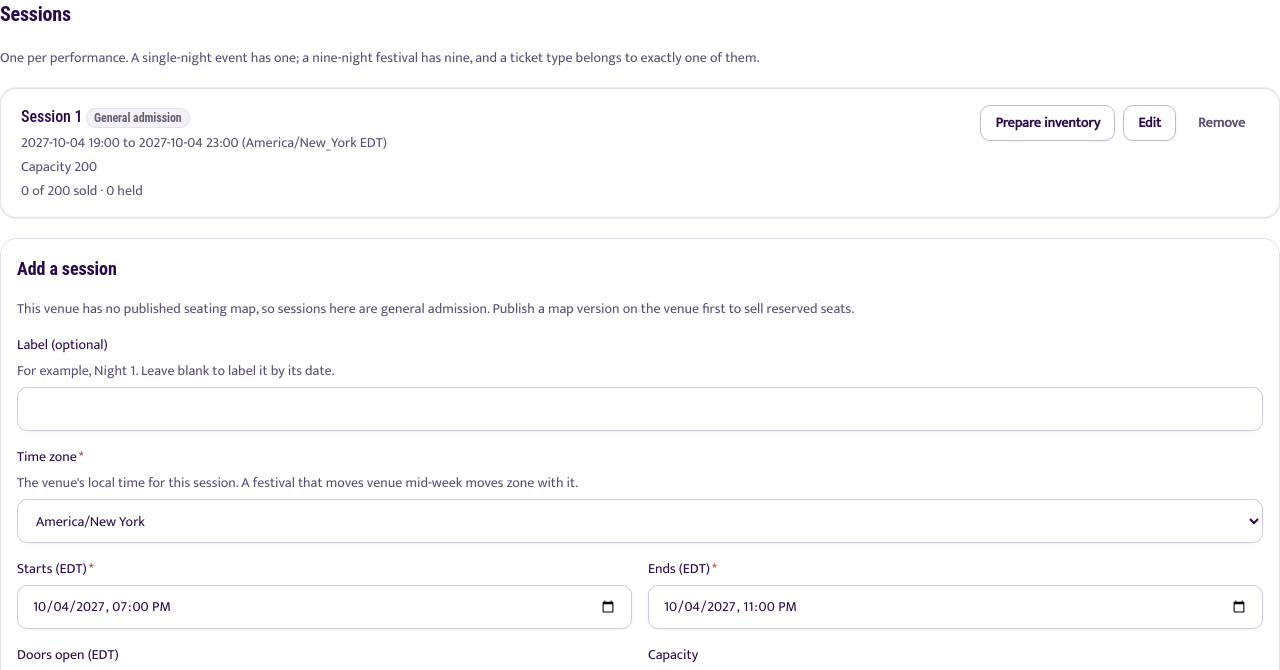
Test: writing as the team at The Desi Events, whose second factor lapses every 10 minutes › sends nothing more, and says so, when the second factor is not given
What coordinates should you click on to do the following:
click the button "Prepare inventory"
I would click on:
 (1048, 123)
Its box is [980, 105, 1115, 141].
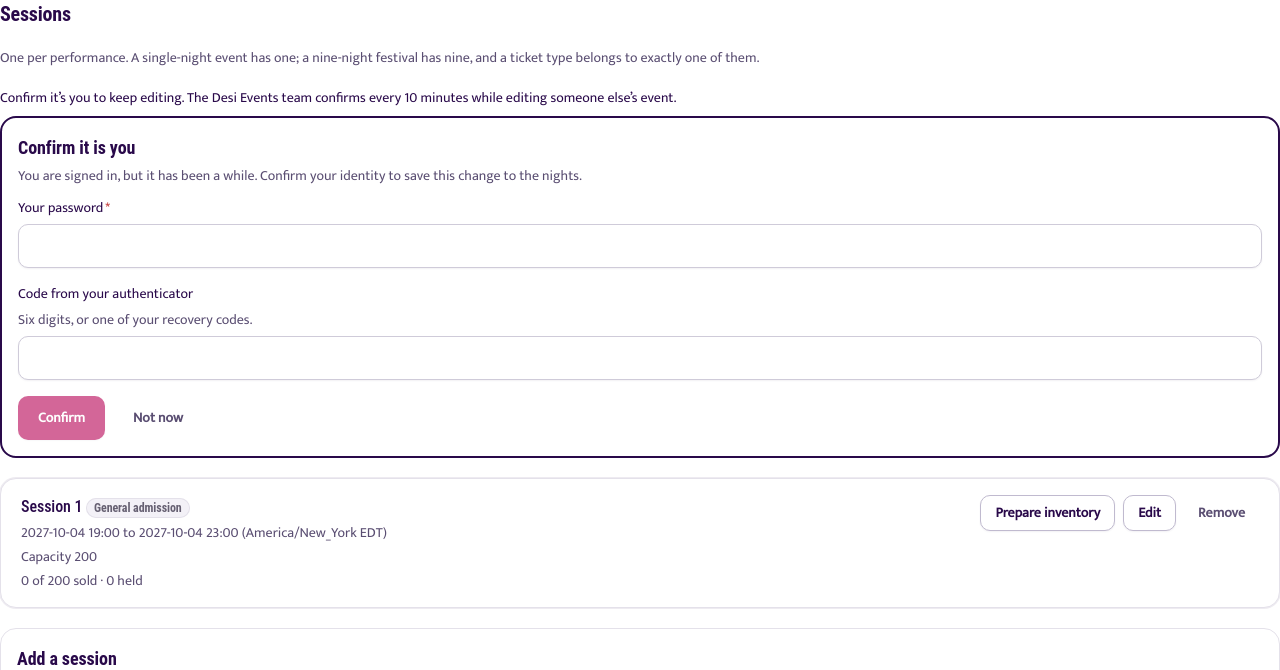
What coordinates should you click on to do the following:
click the button "Not now"
I would click on:
 (158, 418)
Its box is [113, 396, 203, 440].
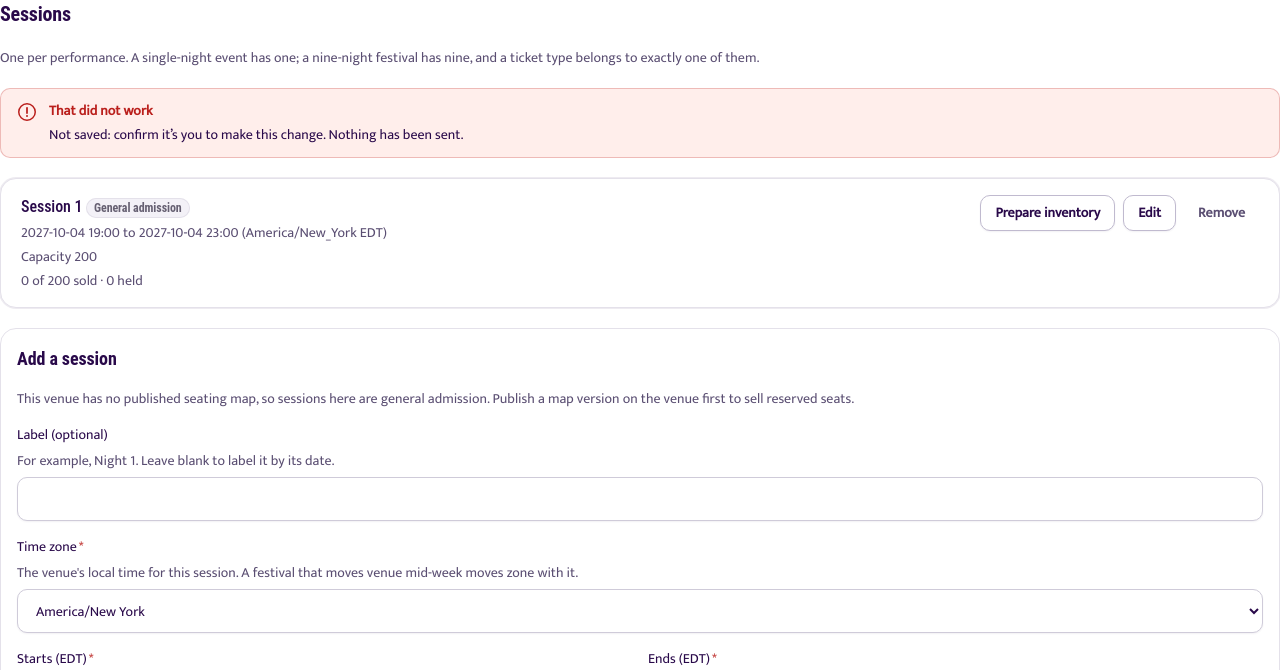
Check: the text "Not saved: confirm it’s you to make this change. Nothing has been sent." is shown, box [49, 123, 463, 146]
